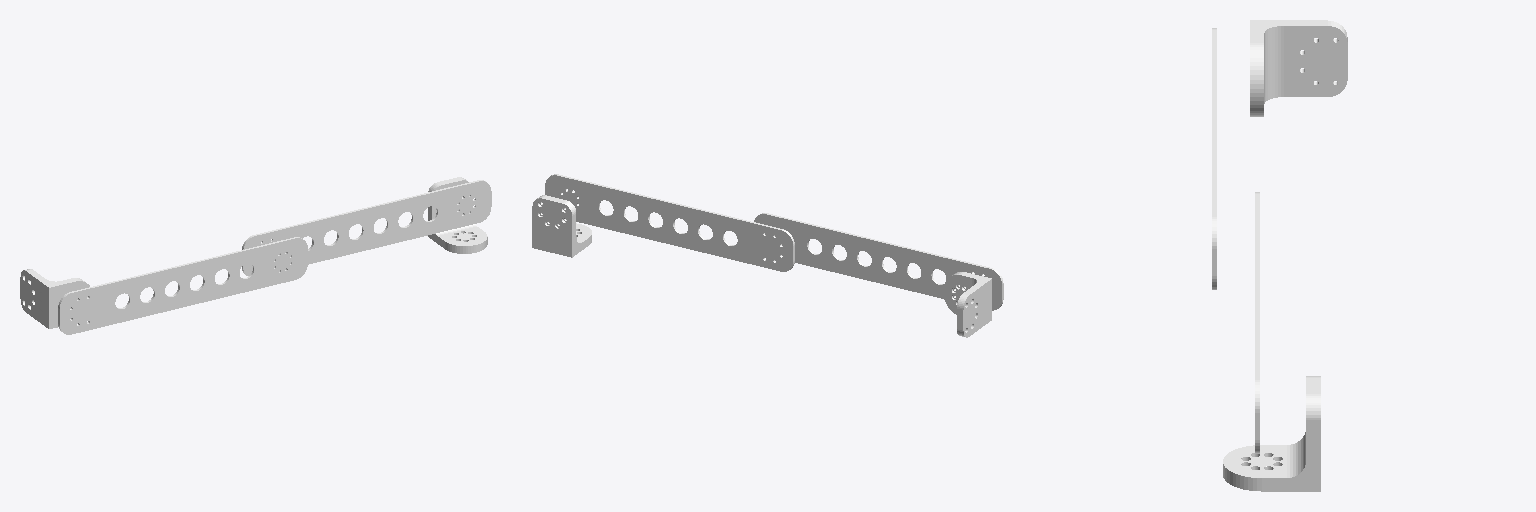
The robot description file, URDF, robot "example":
<?xml version="1.0"?>

<robot name="example">
  
  <!-- *************************************************** -->
  <!-- ***************** Kinematic Chain ***************** -->
  <!-- *************************************************** -->
  <!-- Note the 'origin' tag in the joints defines the
       shift and reorientation before the continuous joint
       rotates around the 'axis'. -->

  <!-- Locate the base plate at the world origin. -->
  <joint name="place" type="fixed">
    <parent link="world"/>
    <child  link="baseplate"/>
    <origin xyz="0 0 0" rpy="0 0 0"/>
  </joint>

  <!-- Shift across the base plate to the base motor. -->
  <joint name="baseplate" type="fixed">
    <parent link="baseplate"/>
    <child  link="basemotor"/>
    <origin xyz="0 0 0.02" rpy="0 0 0"/>
  </joint>

  <!-- Base motor.  Thickness: X5 = 31.1mm, X8 = 45.1mm -->
  <joint name="theta1" type="continuous">
    <parent link="basemotor"/>
    <child  link="lbracket"/>
    <origin xyz="0 0 0.0311" rpy="0 0 1.5708"/>
    <axis   xyz="0 0 1"/>
  </joint>
  
  <!-- Shift across the L bracket -->
  <joint name="lbracket" type="fixed">
    <parent link="lbracket"/>
    <child  link="shouldermotor"/>
    <origin xyz="0.0450 0 0.078" rpy="1.5708 1.5708 -1.5708"/> 
  </joint>

  <!-- Shoulder motor.  Thickness: X5 = 31.1mm, X8 = 45.1mm -->
  <joint name="theta2" type="continuous">
    <parent link="shouldermotor"/>
    <child  link="upperarm"/>
    <origin xyz="0 0 0.0451" rpy="0 0 -1.5708"/>
    <axis   xyz="0 0 1"/>
  </joint>

  <!-- Shift across the upper arm (1/4in thickness) -->
  <joint name="upperarm" type="fixed">
    <parent link="upperarm"/>
    <child  link="elbowmotor"/>
    <origin xyz="0.395 0 0.0127" rpy="0 0 0"/>
  </joint>

  <!-- Elbow motor.  Thickness: X5 = 31.1mm, X8 = 45.1mm -->
  <joint name="theta3" type="continuous">
    <parent link="elbowmotor"/>
    <child  link="lowerarm"/>
    <origin xyz="0 0 0.0311" rpy="0 0 0"/>
    <axis   xyz="0 0 1"/>
  </joint>

  <!-- Shift across the lowerarm arm (1/4in thickness) -->
  <joint name="lowerarm" type="fixed">
    <parent link="lowerarm"/>
    <child  link="wristmotor"/>
    <origin xyz="0.395 0 0" rpy="3.14159 0 0"/>
  </joint>

  <!-- Wrist1 motor.  Thickness: X5 = 31.1mm, X8 = 45.1mm -->
  <joint name="theta4" type="continuous">
    <parent link="wristmotor"/>
    <child  link="palm"/>
    <origin xyz="0 0 0.0311" rpy="0 0 0"/>
    <axis   xyz="0 0 1"/>
  </joint>

  <!-- Shift across the palm (1/4in thickness) -->
  <joint name="palm" type="fixed">
    <parent link="palm"/>
    <child  link="fingermotor"/>
    <origin xyz="0.05 0 0.06" rpy="0 1.5708 0"/>
    <axis   xyz="0 0 1"/>
  </joint>

  <!-- Wrist1 motor.  Thickness: X5 = 31.1mm, X8 = 45.1mm -->
  <joint name="theta5" type="continuous">
    <parent link="fingermotor"/>
    <child  link="finger"/>
    <origin xyz="0 0 0.0311" rpy="0 0 0"/>
    <axis   xyz="0 0 1"/>
  </joint>

  <!-- Shift across the palm (1/4in thickness) -->
  <joint name="finger" type="fixed">
    <parent link="finger"/>
    <child  link="tip"/>
    <origin xyz="0 0 0.09" rpy="0 0 0"/>
    <axis   xyz="0 0 1"/>
  </joint>

  
  <!-- *************************************************** -->
  <!-- *************** Visual Link Elements ************** -->
  <!-- *************************************************** -->
  <!-- Note collada .dae files have better color/texture   -->
  <!-- suppport that STL files.                            -->

  <!-- Colors -->
  <material name="wood">  <color rgba="0.82 0.62 0.04 1"/>  </material>
  <material name="hebi">  <color rgba="0.82 0.06 0.06 1"/>  </material>
  <material name="plastic">  <color rgba="1.00 1.00 1.00 1"/>  </material>

  <!-- World can't take a visual element (at least in Gazebo). -->
  <link name="world"/>

  <link name="baseplate">
    <!-- Add a visual element -->
  </link>

  <link name="basemotor">
    <visual>
      <geometry>
        <mesh filename="package://basic134/meshes/X5.stl"
	      scale="0.001 0.001 0.001"/>
      </geometry>
      <material name="hebi"/>
    </visual>
  </link>

  <link name="lbracket">
    <visual>
      <geometry>
        <mesh filename="package://basic134/meshes/Lbracket.stl"
		scale="1.0 1.0 1.0"/>
      </geometry>
      <material name="plastic"/>
    </visual>
  </link>

  <link name="shouldermotor">
    <visual>
      <geometry>
        <mesh filename="package://basic134/meshes/X8.stl"
	      scale="0.001 0.001 0.001"/>
      </geometry>
      <material name="hebi"/>
    </visual>
  </link>

  <link name="upperarm">
    <visual>
      <origin
          xyz="-0.05 -0.04 -0.06"
          rpy="0 0 0"
			/>
      <geometry>
	      <mesh filename="package://basic134/meshes/arm.stl"
		    scale="0.001 0.001 0.001"/>
      </geometry>
      <material name="plastic"/>
    </visual>
  </link>

  <link name="elbowmotor">
    <visual>
      <geometry>
        <mesh filename="package://basic134/meshes/X5.stl"
	      scale="0.001 0.001 0.001"/>
      </geometry>
      <material name="hebi"/>
    </visual>
  </link>

  <link name="lowerarm">
    <visual>
      <origin
          xyz="-0.05 -0.04 -0.06"
          rpy="0 0 0"
			/>
      <geometry>
	      <mesh filename="package://basic134/meshes/arm.stl"
		    scale="0.001 0.001 0.001"/>
      </geometry>
      <material name="plastic"/>
    </visual>
  </link>

  <link name="wristmotor">
    <visual>
      <geometry>
        <mesh filename="package://basic134/meshes/X5.stl"
	      scale="0.001 0.001 0.001"/>
      </geometry>
      <material name="hebi"/>
    </visual>
  </link>

  <link name="palm">
    <visual>
      <geometry>
        <mesh filename="package://basic134/meshes/Lbracket.stl"
		scale="0.9 1.0 1.0"/>
      </geometry>
      <material name="plastic"/>
    </visual>
  </link>

  <link name="fingermotor">
    <visual>
      <geometry>
        <mesh filename="package://basic134/meshes/X5.stl"
	      scale="0.001 0.001 0.001"/>
      </geometry>
      <material name="hebi"/>
    </visual>
  </link>
  <link name="finger"/>
  <link name="tip"/>

</robot>

--- What the picture shows (computed from the rendered views, not written in the file) ---
The picture shows the robot from 3 angles, left to right: view 1: azimuth 30°, elevation 25°; view 2: azimuth 150°, elevation 25°; view 3: azimuth 270°, elevation 25°; orthographic projection.
Robot: example — 13 links, 12 joints (5 continuous, 7 fixed); root link world; default pose: all joints at 0.
Visible links, largest first — view 1: lowerarm, upperarm, palm, lbracket; view 2: upperarm, lowerarm, lbracket, palm; view 3: palm, lbracket, upperarm, lowerarm.
Boxes of the visible links, left/top/right/bottom form: lowerarm: left=58, top=237, right=307, bottom=334; upperarm: left=242, top=180, right=491, bottom=275; palm: left=20, top=269, right=89, bottom=328; lbracket: left=428, top=177, right=487, bottom=253; upperarm: left=545, top=174, right=794, bottom=271; lowerarm: left=754, top=213, right=1003, bottom=310; lbracket: left=532, top=195, right=591, bottom=257; palm: left=943, top=272, right=991, bottom=337; palm: left=1250, top=20, right=1347, bottom=116; lbracket: left=1223, top=376, right=1320, bottom=491; upperarm: left=1255, top=192, right=1259, bottom=453; lowerarm: left=1212, top=28, right=1216, bottom=289.
Bounding box of the posed robot: 0.895 × 0.138 × 0.118 m (x, y, z).
Meshes: 4 distinct files referenced, 4 mesh visuals loaded (2 binary STL); not drawn: 5 (reference not matched to a file when rendering).